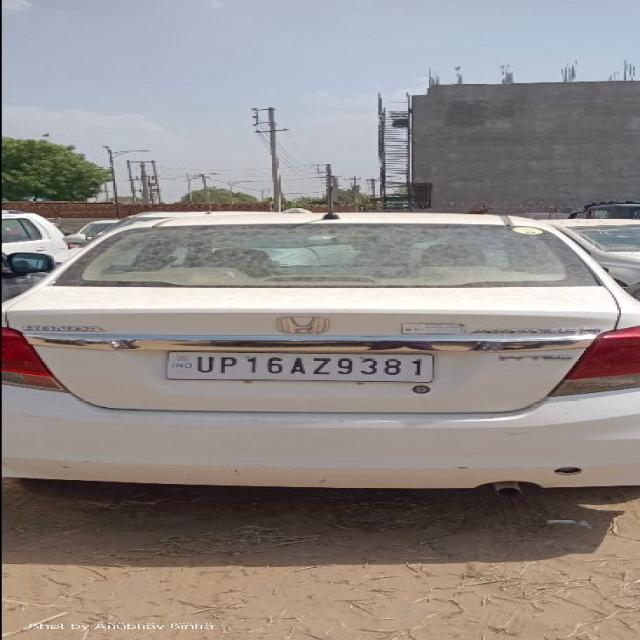license_plate: (164, 350, 434, 383)
